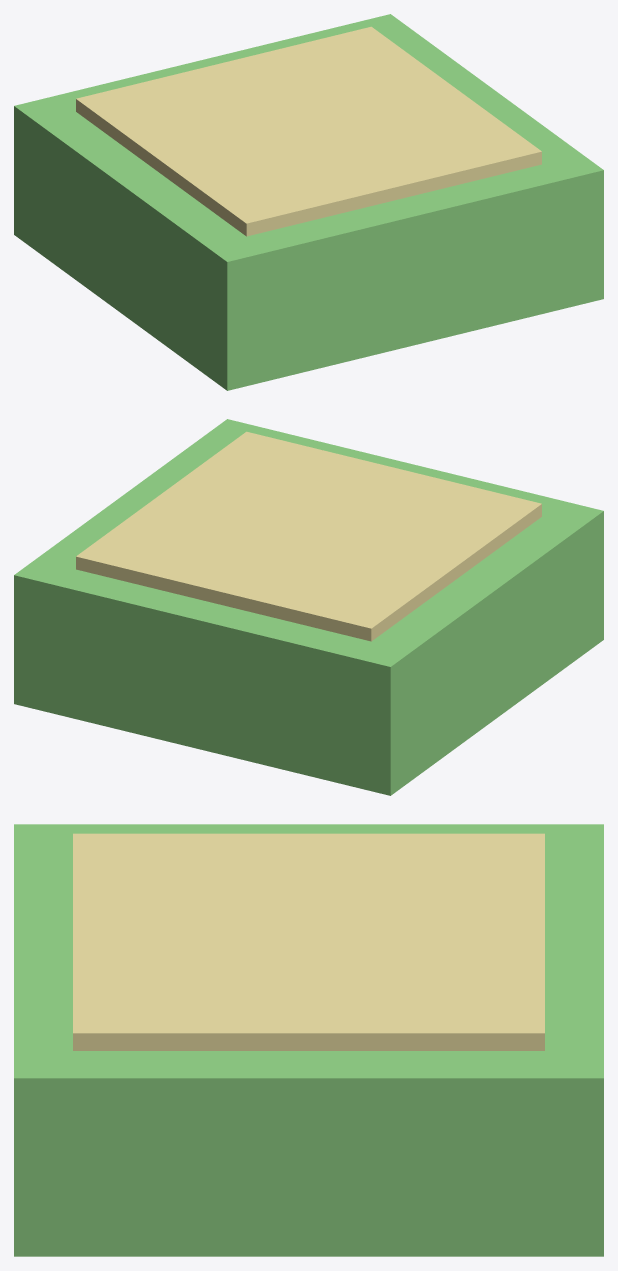
The model's file is Prop_Pet_AMF_Bowl_V20.glb.
3 renders of one model, top to bottom at view 1: azimuth 30°, elevation 25°; view 2: azimuth 150°, elevation 25°; view 3: azimuth 270°, elevation 25°, orthographic. The views are drawn at different scales.
Parts seen in each view (by area): view 1: Prop_Pet_AMF_Bowl_V20; view 2: Prop_Pet_AMF_Bowl_V20; view 3: Prop_Pet_AMF_Bowl_V20.
Boxes of the visible parts, bbox=[...] form: Prop_Pet_AMF_Bowl_V20: bbox=[14, 14, 603, 390]; Prop_Pet_AMF_Bowl_V20: bbox=[14, 419, 603, 795]; Prop_Pet_AMF_Bowl_V20: bbox=[14, 824, 603, 1256].
Bounding box in the file's own units: 0.3058 × 0.11 × 0.3.
